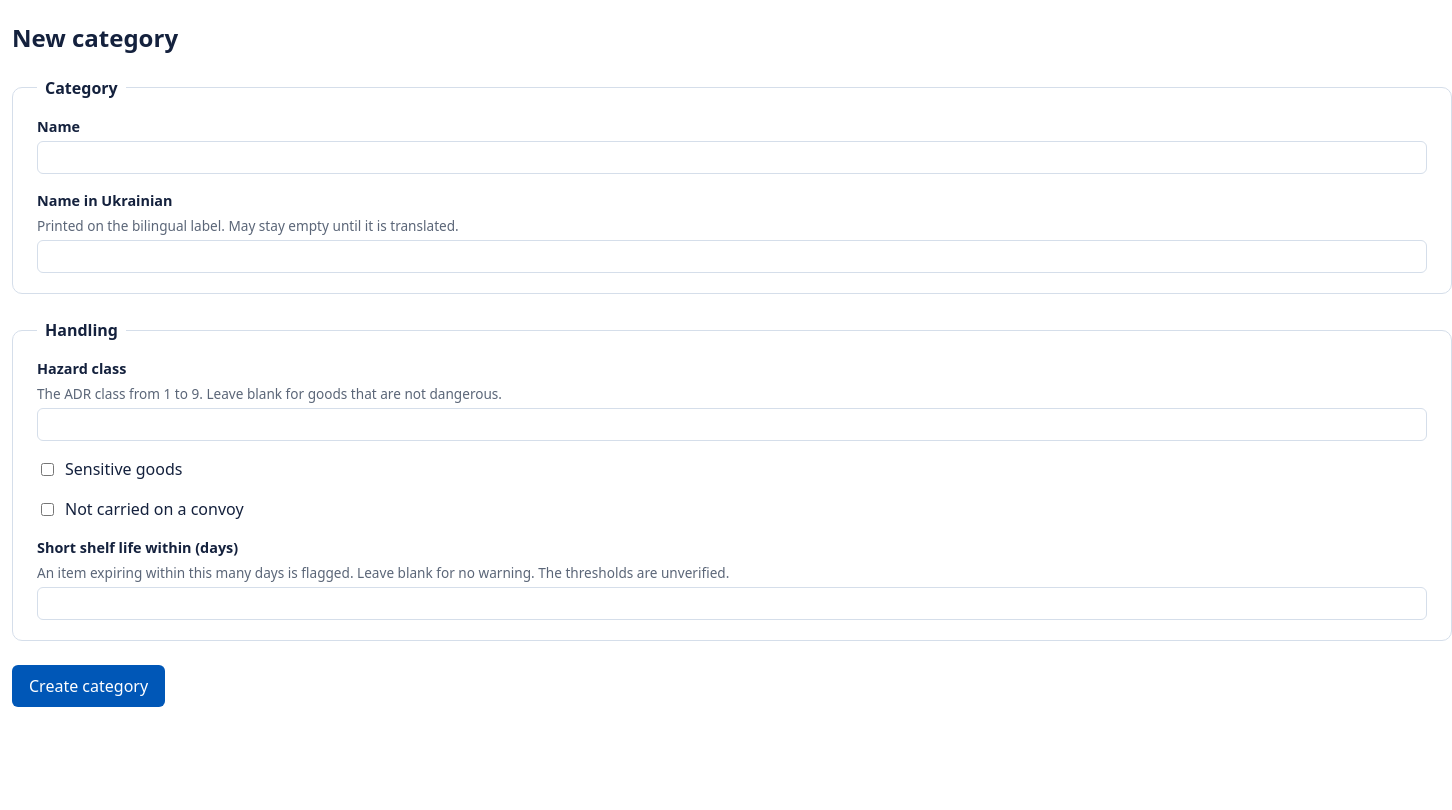
Test case: validates the form before it is sent
Type "12" into the field labelled "Hazard class" at [732, 425], box [37,408,1427,441]
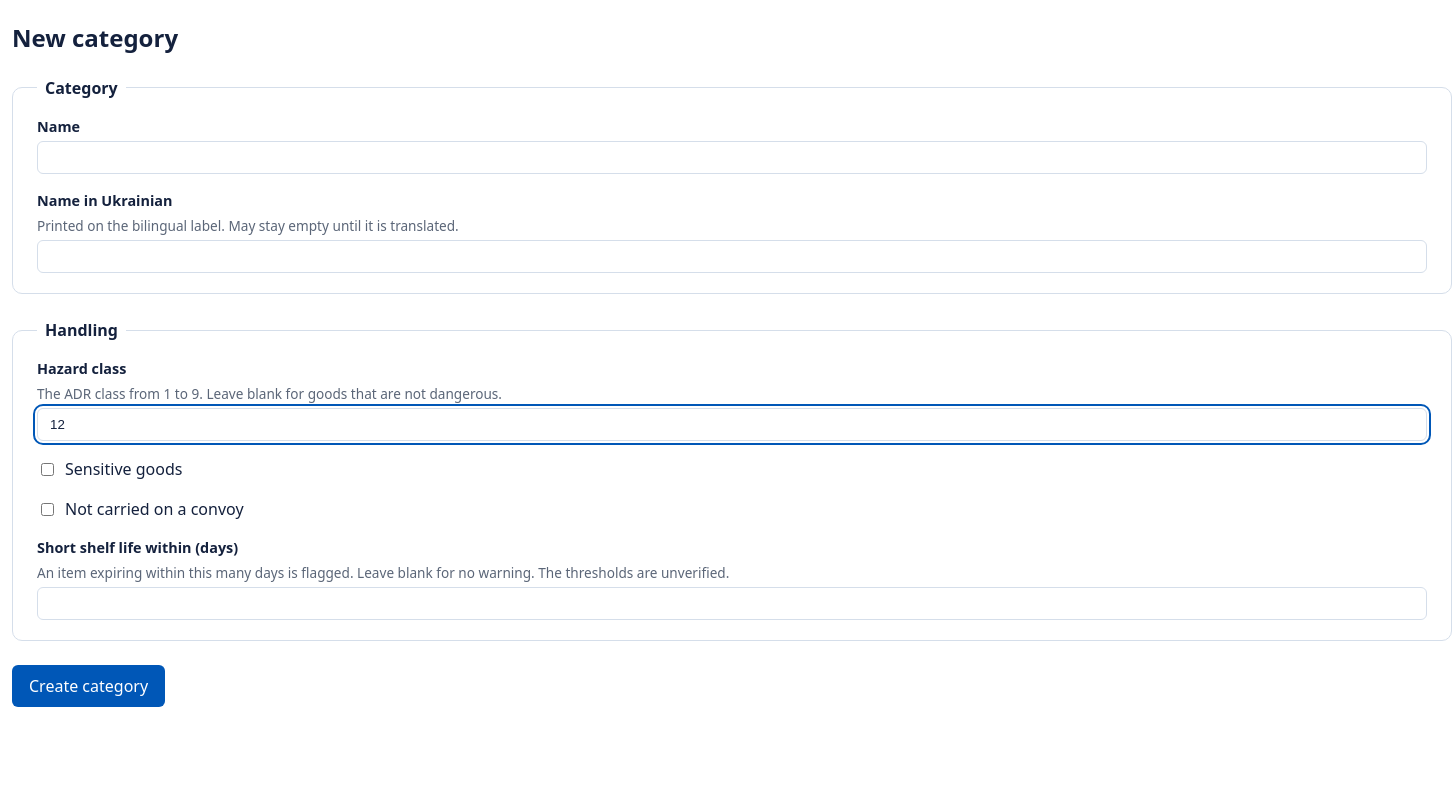
Click the button "Create category" at [89, 686], box [12,665,165,707]
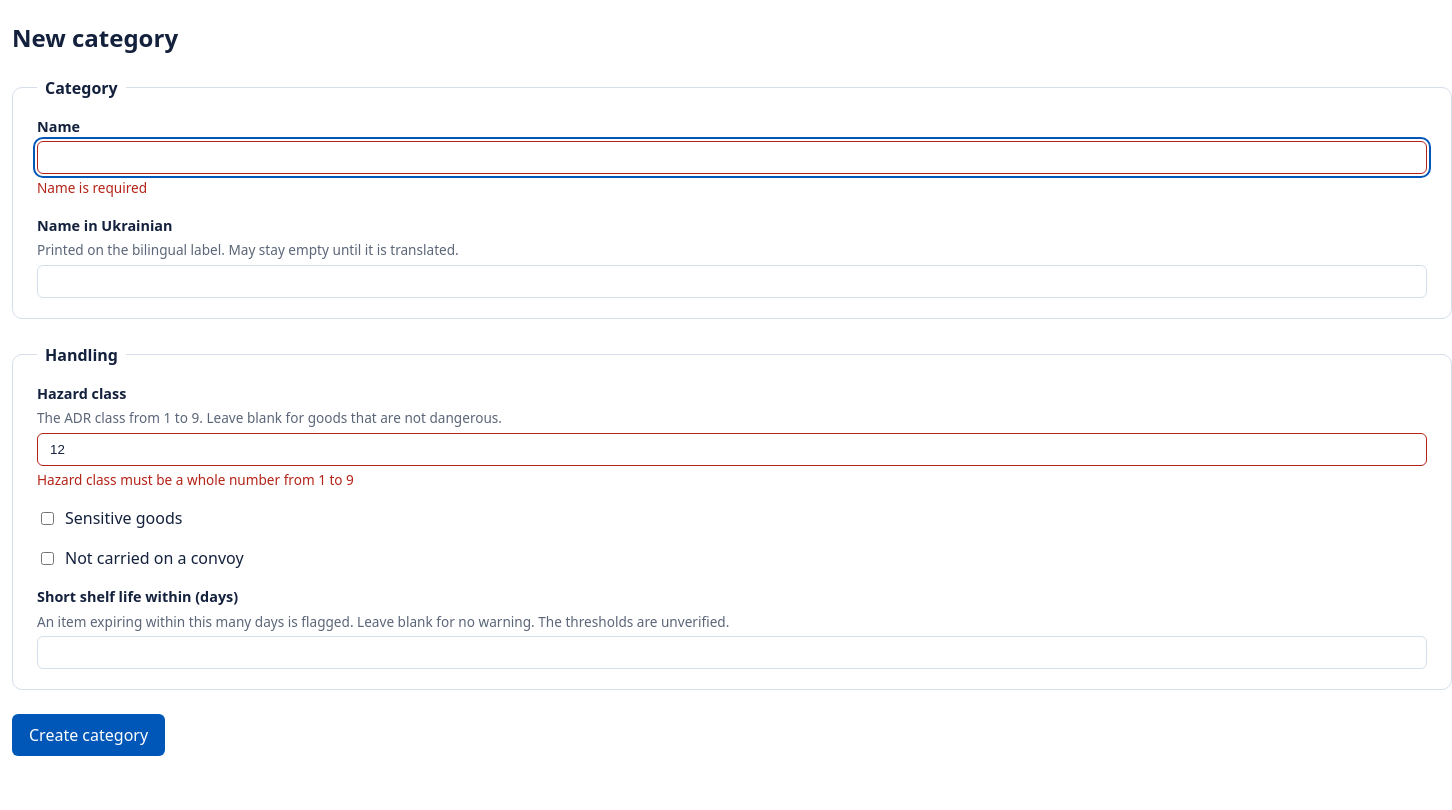
Now the text "Name is required" is shown, box [37,178,147,197]
Now the text "Hazard class must be a whole number from 1 to 9" is shown, box [37,470,354,489]
